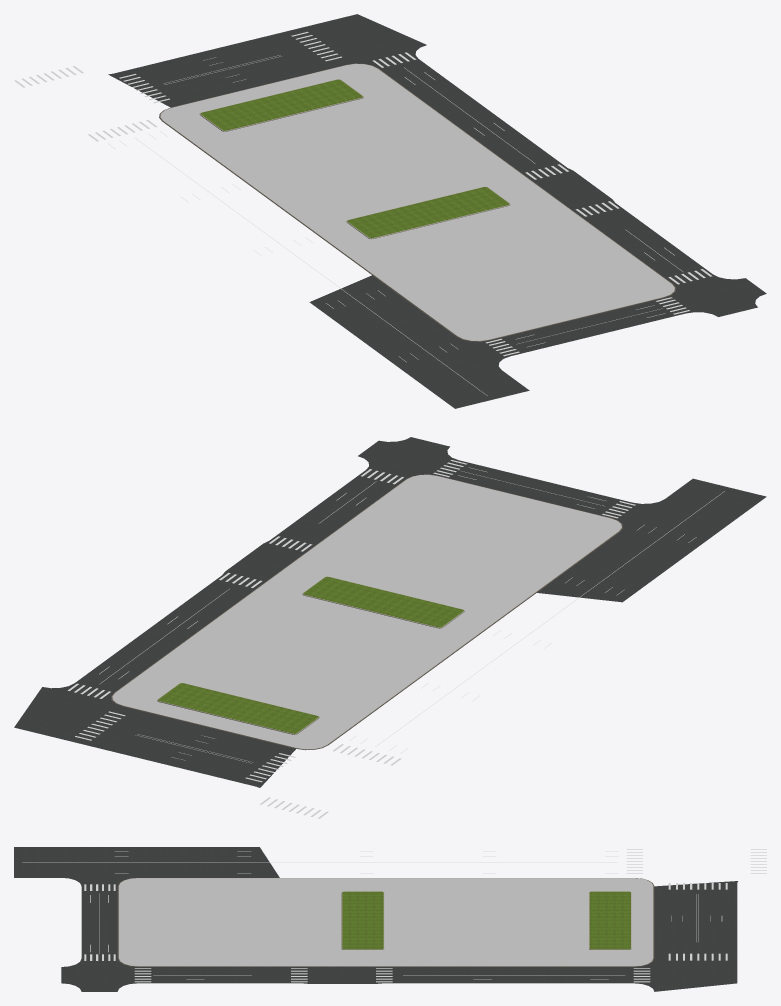
The model's file is Terrain_Area_05.fbx.
3 renders of one model, top to bottom at view 1: azimuth 30°, elevation 25°; view 2: azimuth 150°, elevation 25°; view 3: azimuth 270°, elevation 25°, orthographic. The views are drawn at different scales.
Visible parts, largest first — view 1: Area_05, Road_21, Road_Alpha_01, Road_Alpha_06; view 2: Area_05, Road_21, Road_Alpha_01, Road_Alpha_06; view 3: Area_05, Road_21, Road_Alpha_01, Road_Alpha_21, Road_Alpha_06, Road_Alpha_27, Road_Alpha_30.
Part boxes in pixels (x1,y1,x2,y2): Area_05: (159,63,676,341); Road_21: (108,14,766,408); Road_Alpha_01: (14,66,487,395); Road_Alpha_06: (119,32,341,103); Area_05: (111,474,622,750); Road_21: (14,437,766,787); Road_Alpha_01: (260,491,724,818); Road_Alpha_06: (75,711,295,782); Area_05: (117,878,654,966); Road_21: (14,847,737,991); Road_Alpha_01: (22,849,766,873); Road_Alpha_21: (376,968,650,982); Road_Alpha_06: (668,883,727,960); Road_Alpha_27: (134,968,307,982); Road_Alpha_30: (84,884,115,960).
Bounding box in the file's own units: 8597 × 21.84 × 18891.
